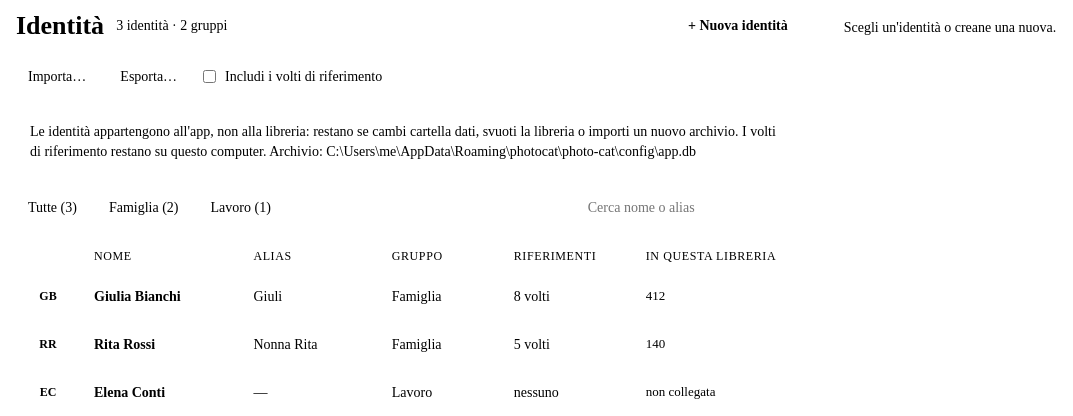
lists identities with group filter, link state and store location
Expected: the text "Giulia Bianchi" is shown, [94,289,181,304]
Expected: the text "412" is shown, [646,288,665,303]
Click the button "Lavoro (1)".
click(241, 208)  # box [198,192,283,224]
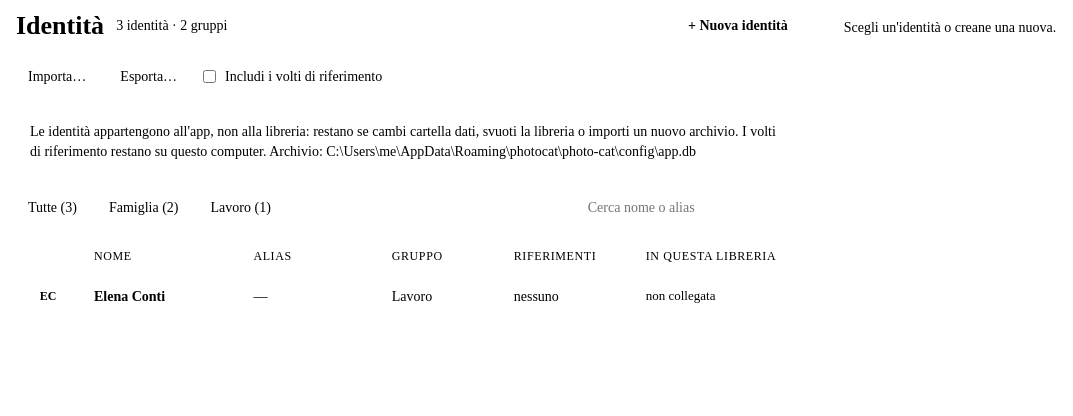
Expected: the text "Elena Conti" is shown, [94,289,165,304]
Result: the text "Giulia Bianchi" is gone
